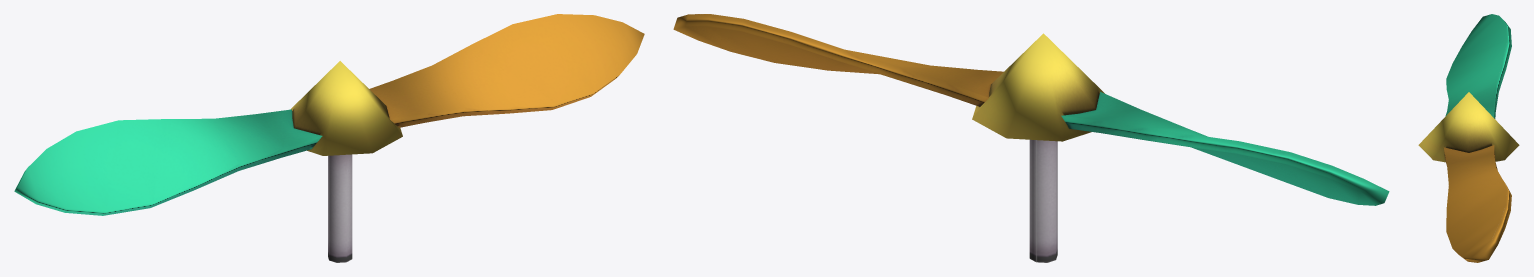
File: Cap_turbo_part.fbx
3 views of the same model, side by side, from view 1: azimuth 30°, elevation 25°; view 2: azimuth 150°, elevation 25°; view 3: azimuth 270°, elevation 25° (orthographic). The views are drawn at different scales.
Visible parts, largest first — view 1: Cap_turbo_part; view 2: Cap_turbo_part; view 3: Cap_turbo_part.
Part boxes in pixels (x1,y1,x2,y2): Cap_turbo_part: [14, 14, 644, 262]; Cap_turbo_part: [673, 14, 1389, 262]; Cap_turbo_part: [1418, 14, 1519, 262].
Size of the model in its own units: 15.59 by 4.68 by 2.81.
